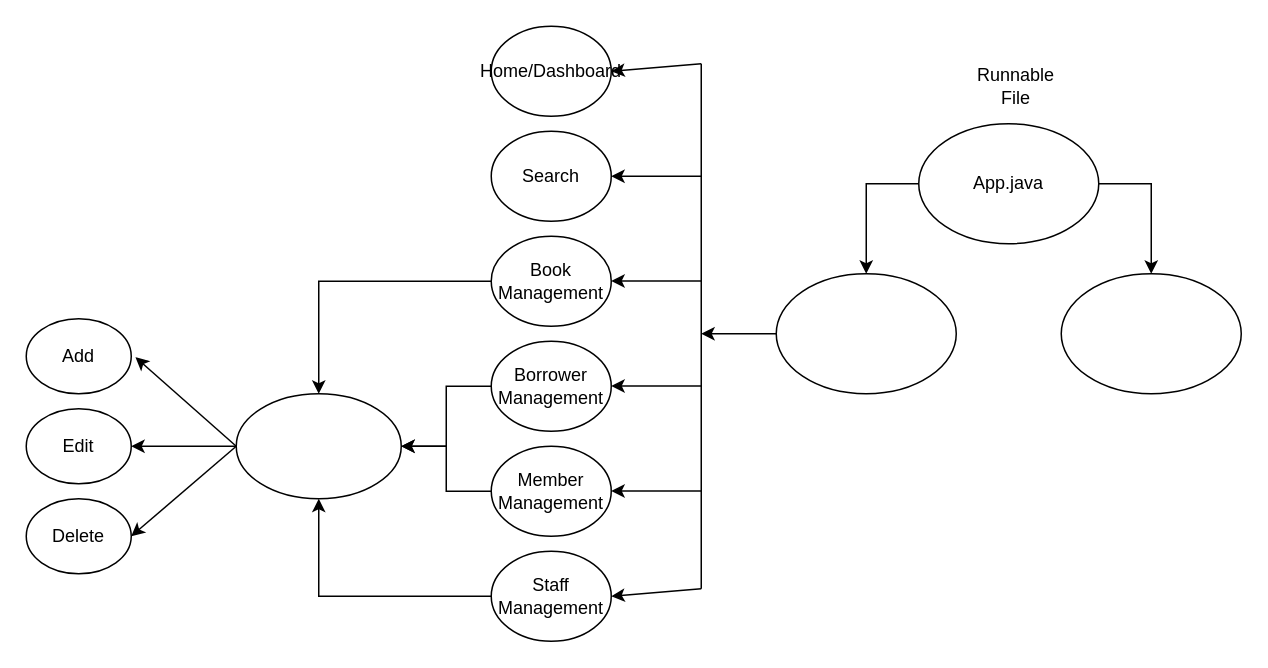
Some shapes in this 1268 by 668 pixel diagram are drawn without their labels. Here are the shapes that lost their labels. From the top down, the centre of each, then its label:
(865,333): Side Bar
(1150,333): Show Panel
(318,445): Functions
